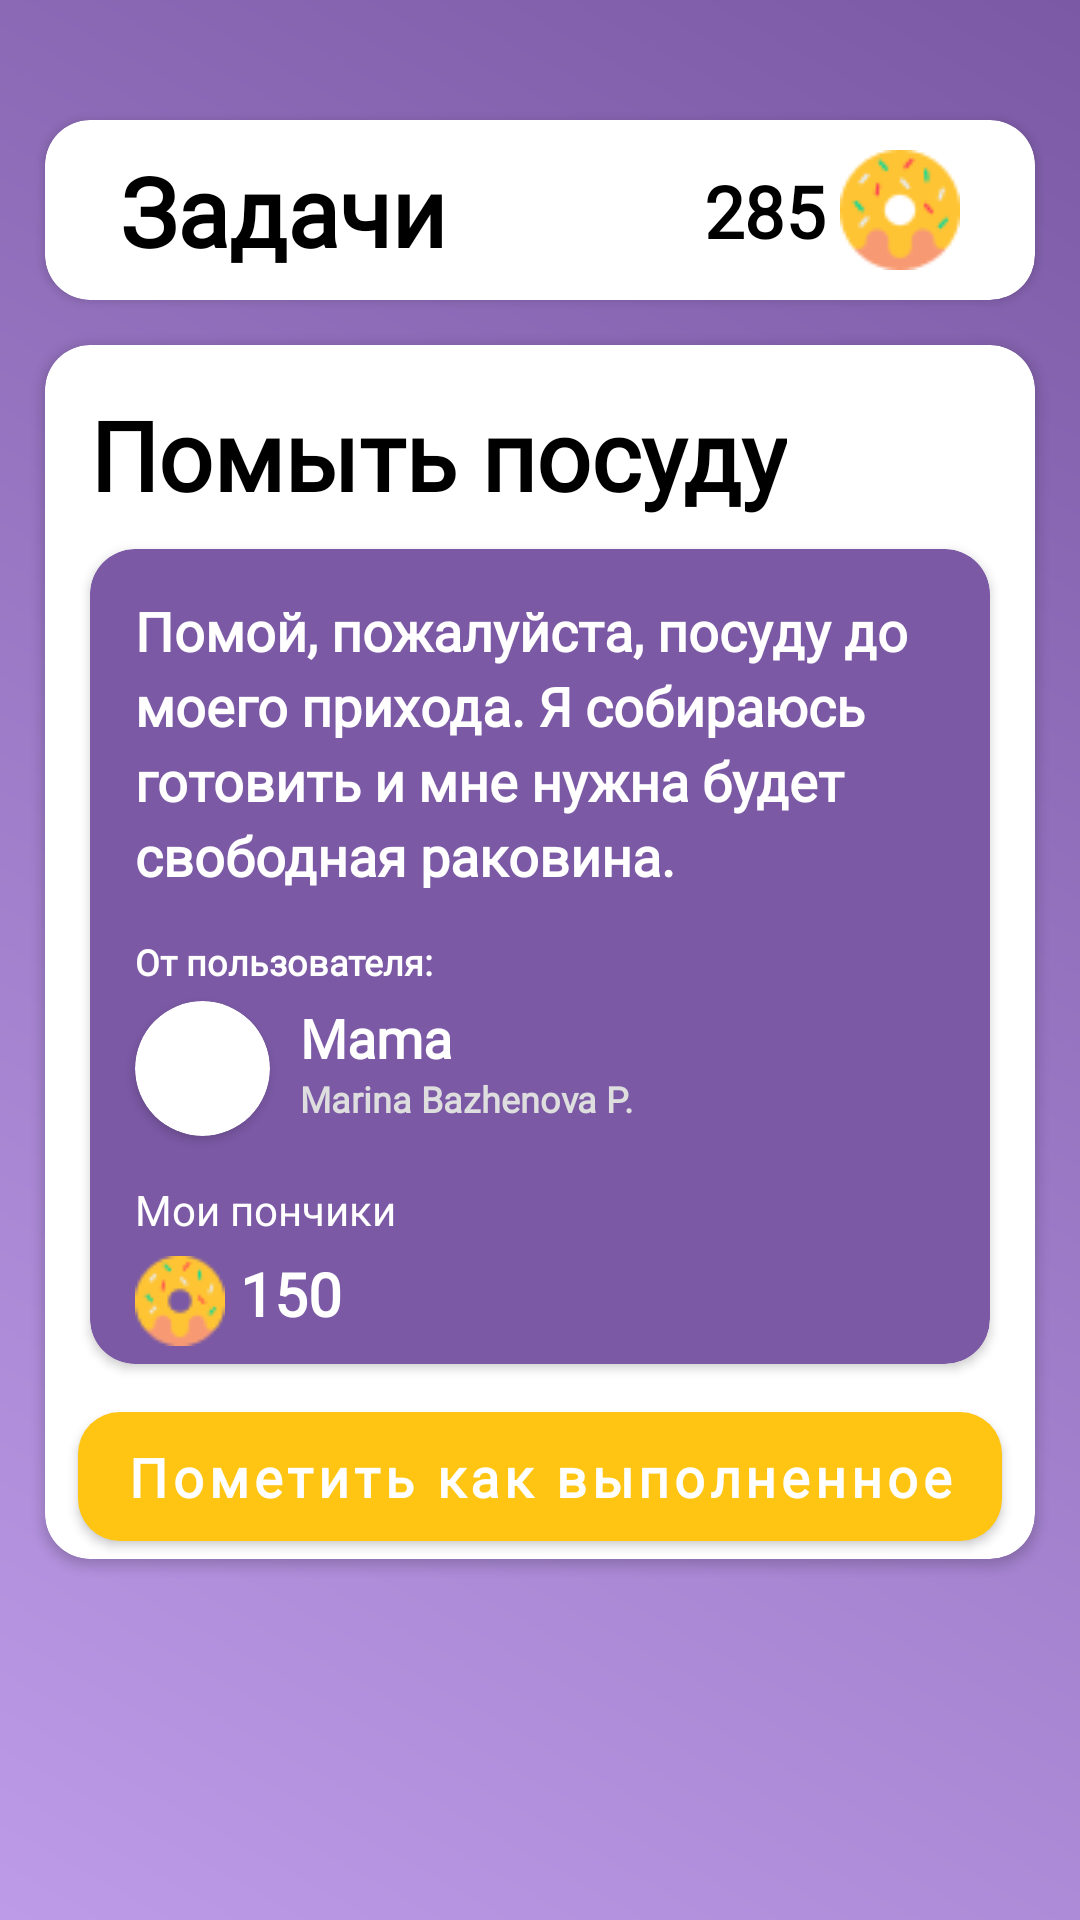

Locate icon controls on the screen. Image size 1080px×1920px, boxes as (x1, y1, x2, y2).
donut: (840, 150, 960, 270)
little donut: (135, 1256, 225, 1346)
